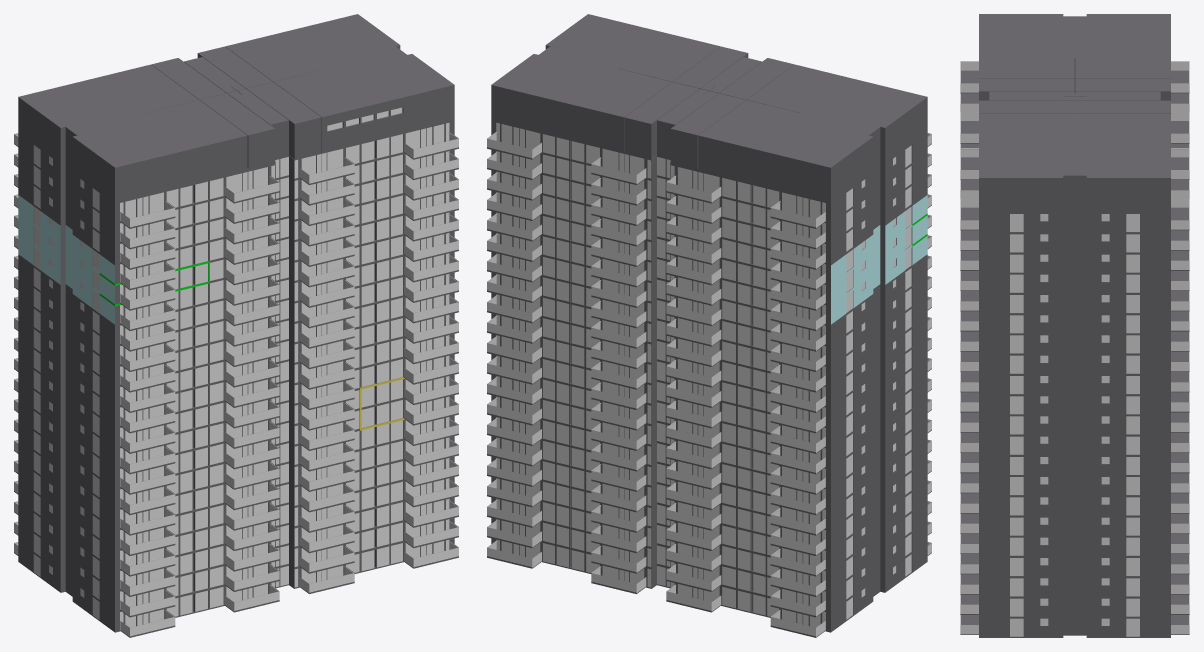
Rendered from Building (6).glb.
3 renders of one model, left to right at view 1: azimuth 30°, elevation 25°; view 2: azimuth 150°, elevation 25°; view 3: azimuth 270°, elevation 25°, orthographic.
Visible parts, largest first — view 1: floor1; view 2: floor1; view 3: floor1.
Boxes of the visible parts, <box> form: floor1: <box>14,14,458,637</box>; floor1: <box>487,14,931,637</box>; floor1: <box>960,14,1189,637</box>.
Bounding box in the file's own units: 34.77 × 45.47 × 20.56.
